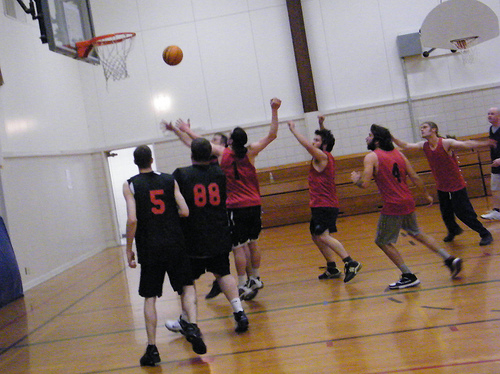basketball: (162, 44, 183, 66)
